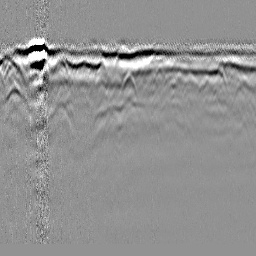cavity: (120, 69, 138, 99)
